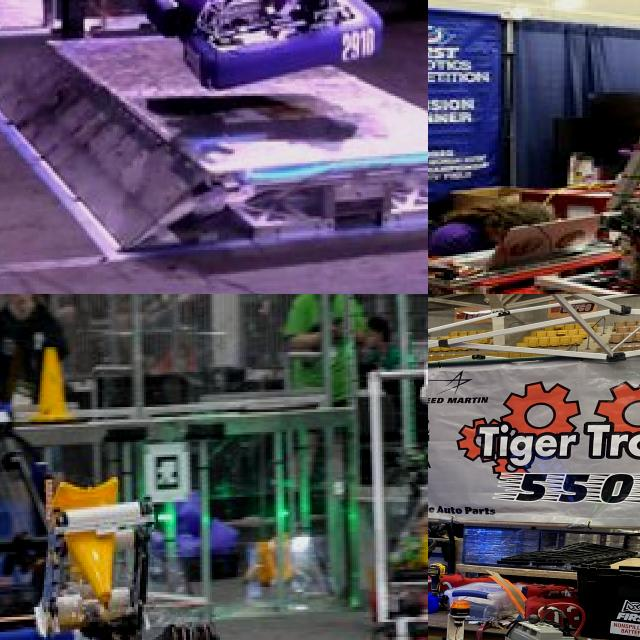FRC-Robots: (484, 0, 640, 294), (0, 374, 167, 640), (0, 521, 310, 640), (133, 0, 428, 114), (428, 537, 640, 640), (341, 460, 428, 640)
